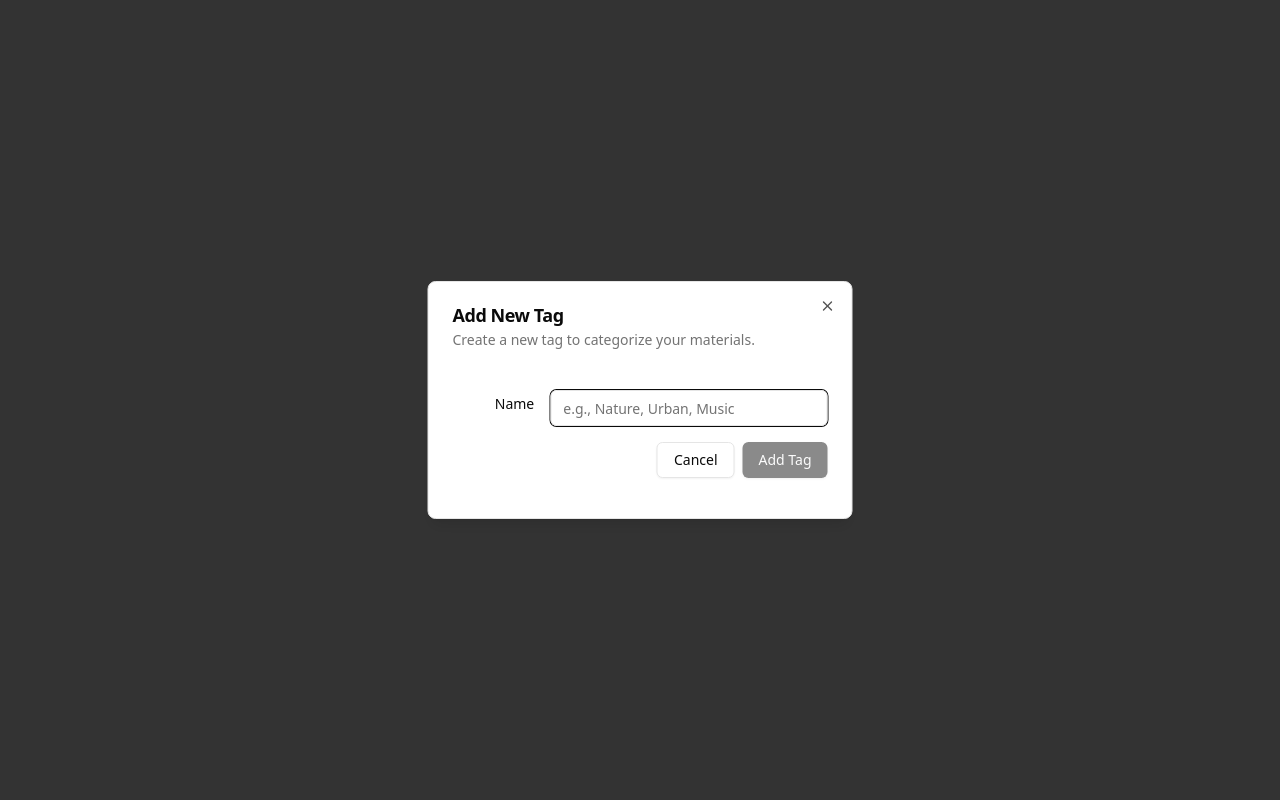
Test: TagFormModal › shows unknown error message if submission fails with non-Error object
Type "Test Tag" into the field labelled "Name" at x=689, y=408, box x1=550 y1=390 x2=828 y2=426
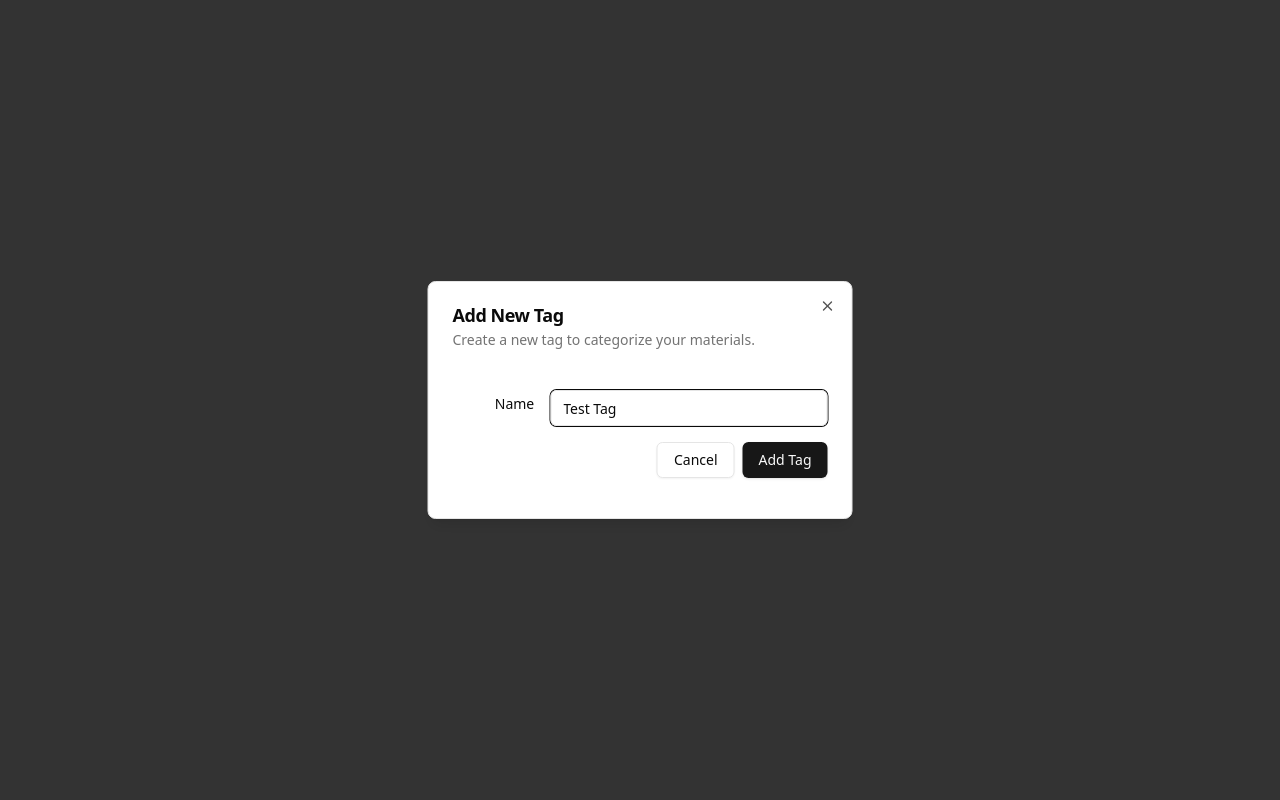
Click the button "Add Tag" at x=785, y=460, box x1=743 y1=442 x2=828 y2=478
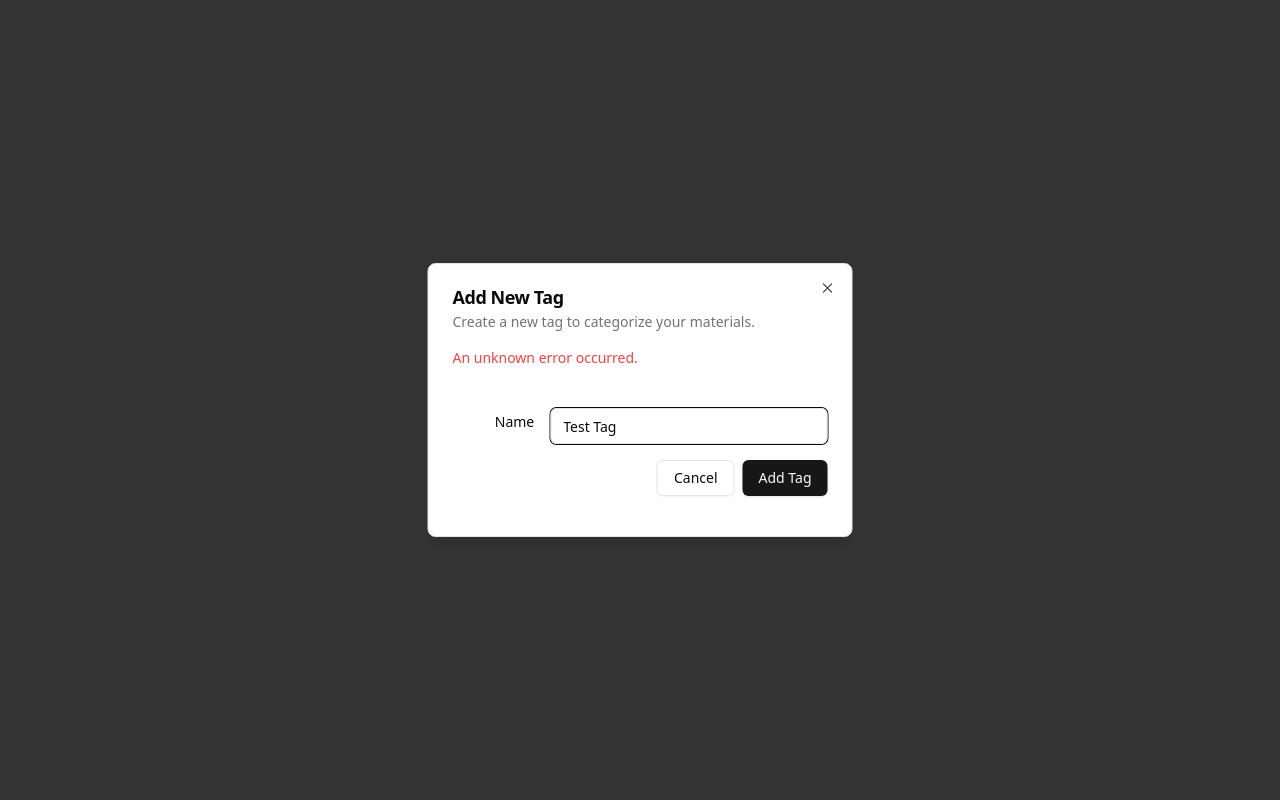
Now the text "An unknown error occurred." is shown, box x1=452 y1=348 x2=638 y2=367
